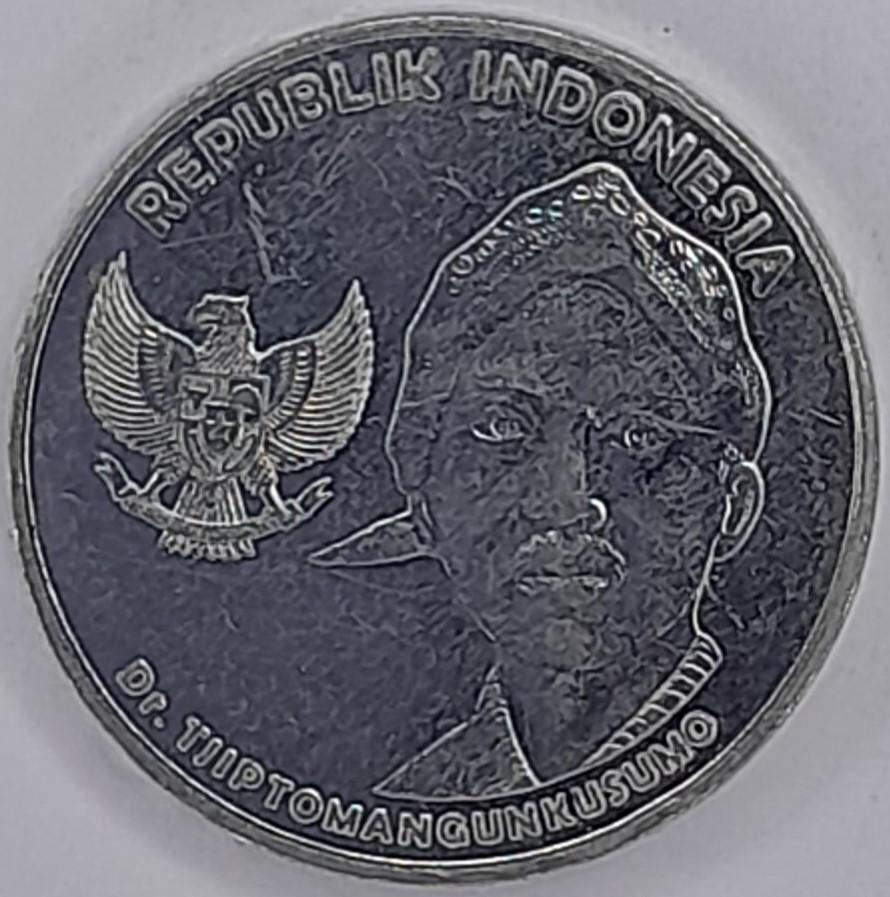coin_200_e2016: (0, 16, 890, 897)
